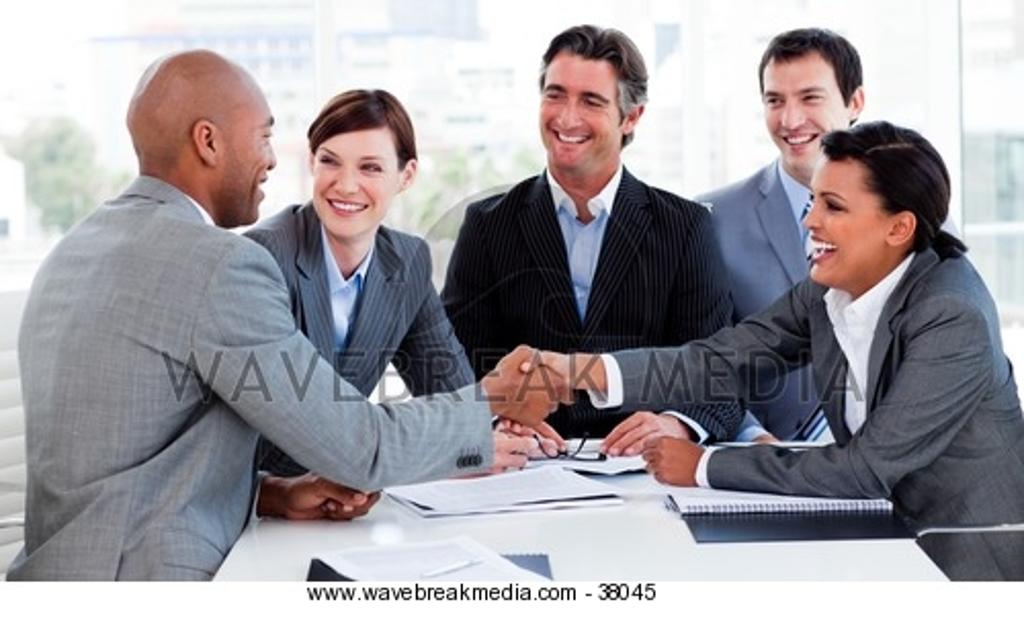face: (803, 168, 891, 284), (764, 60, 848, 167), (315, 133, 400, 236), (201, 101, 273, 222), (541, 63, 622, 166)
